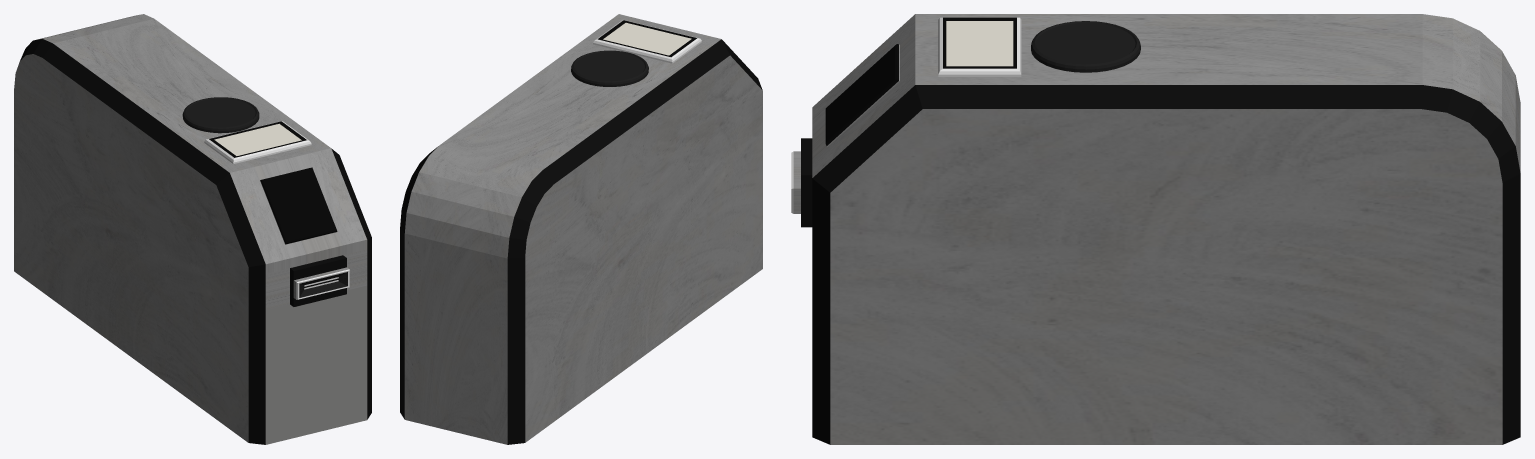
Rendered from TurnstileMain.fbx.
The picture shows the model from 3 angles, left to right: view 1: azimuth 30°, elevation 25°; view 2: azimuth 150°, elevation 25°; view 3: azimuth 270°, elevation 25°; orthographic projection. The views are drawn at different scales.
Parts seen in each view (by area): view 1: Cube; view 2: Cube; view 3: Cube.
Boxes of the visible parts, bbox=[...] form: Cube: bbox=[14, 14, 371, 444]; Cube: bbox=[400, 14, 762, 444]; Cube: bbox=[791, 14, 1520, 444].
Bounding box in the file's own units: 179 × 348 × 640.
Materials: 8 (2 with a texture image).
